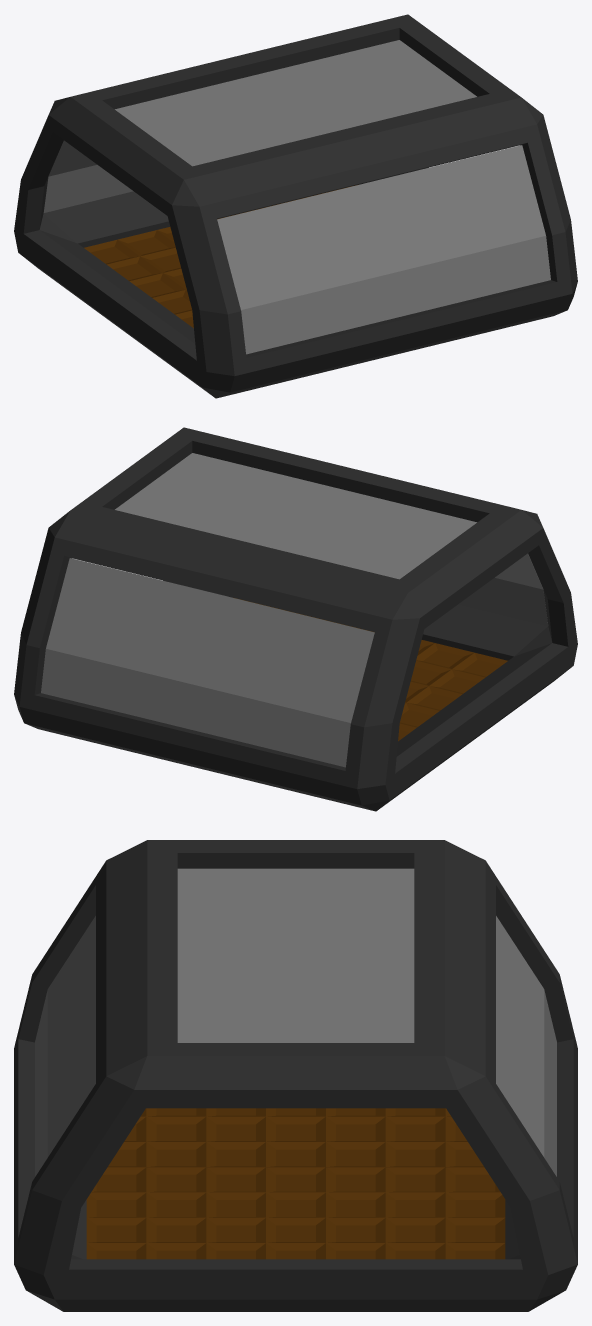
Rendered from Inver.fbx.
3 views of the same model, one above another, from view 1: azimuth 30°, elevation 25°; view 2: azimuth 150°, elevation 25°; view 3: azimuth 270°, elevation 25° (orthographic). The views are drawn at different scales.
Visible parts, largest first — view 1: Huerto, Huerto.002, Huerto.001; view 2: Huerto, Huerto.002, Huerto.001; view 3: Huerto, Huerto.002, Huerto.001.
Part boxes in pixels (x1,y1,x2,y2): Huerto: [14, 14, 577, 398]; Huerto.002: [43, 40, 550, 354]; Huerto.001: [84, 184, 358, 328]; Huerto: [14, 427, 577, 811]; Huerto.002: [41, 453, 548, 767]; Huerto.001: [233, 597, 507, 741]; Huerto: [14, 840, 577, 1311]; Huerto.002: [35, 868, 556, 1176]; Huerto.001: [86, 1108, 505, 1259].
Size of the model in its own units: 555 by 278 by 553.
